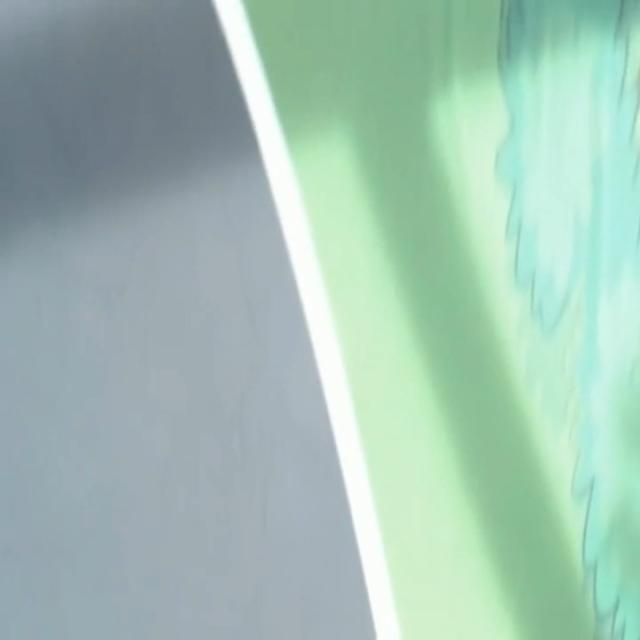right: (212, 0, 400, 639)
